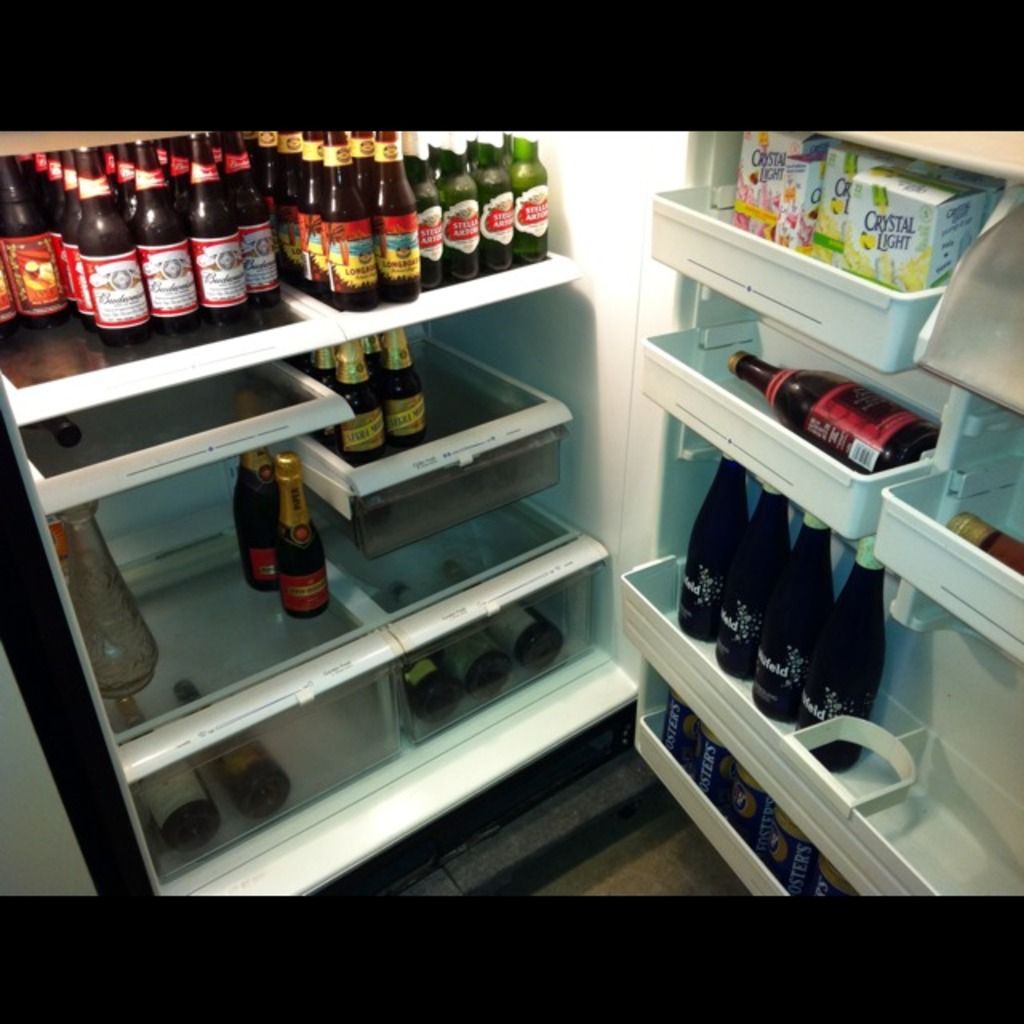refrigerator door: (724, 165, 1024, 1011)
